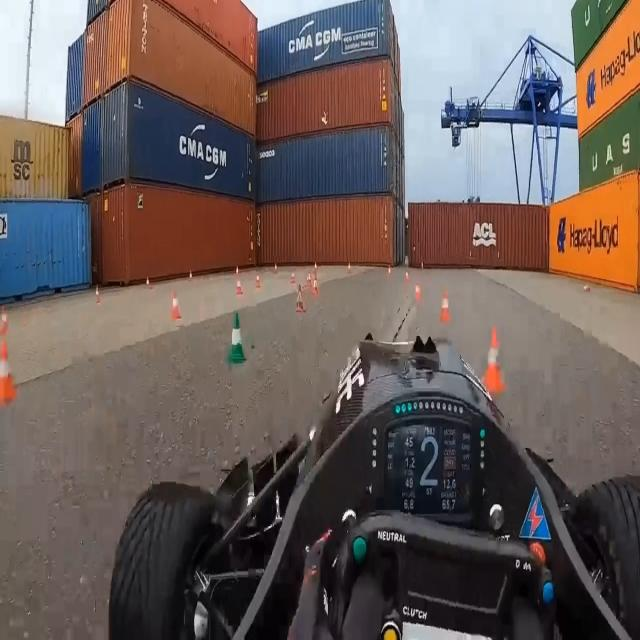Green cone: (222, 304, 254, 374)
Orange cone: (473, 310, 513, 411), (0, 323, 19, 430), (157, 283, 189, 340), (434, 273, 460, 333), (407, 264, 423, 314), (290, 278, 306, 325), (86, 274, 104, 314), (0, 306, 16, 351), (265, 254, 286, 284), (379, 258, 396, 292), (308, 272, 324, 302), (249, 264, 262, 294), (187, 258, 202, 284), (232, 267, 244, 299), (144, 268, 157, 291), (343, 253, 351, 281)
